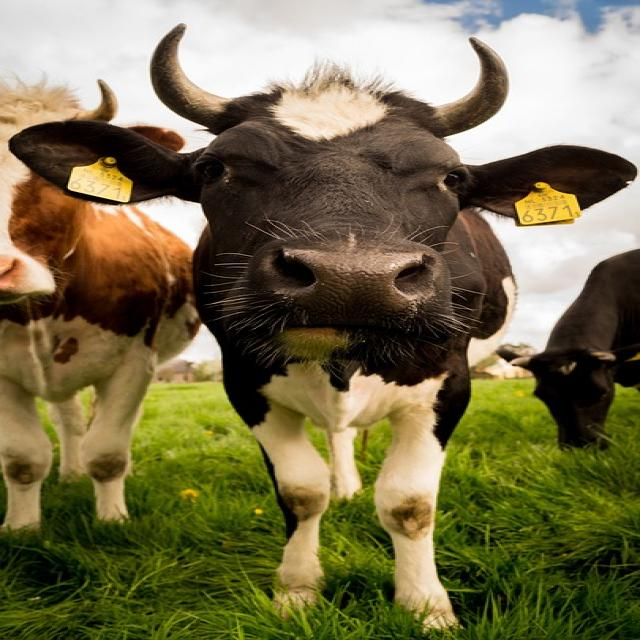Herbivorous: (51, 23, 634, 631), (0, 175, 202, 535), (510, 250, 640, 452)
